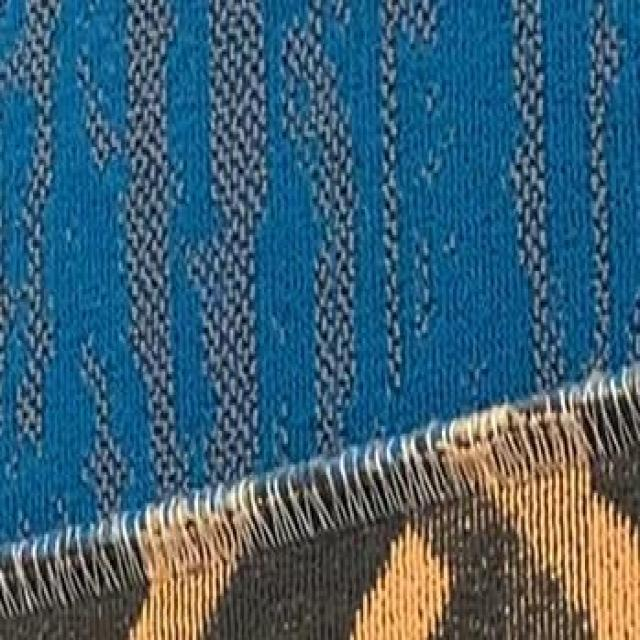gray stitch: (299, 356, 640, 539), (0, 464, 299, 622)
